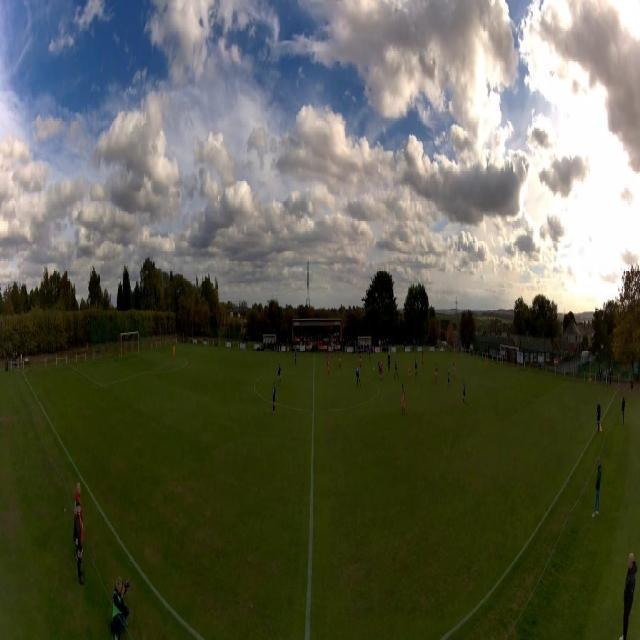ball: (374, 368, 375, 370)
player: (272, 382, 278, 416), (402, 384, 406, 416), (462, 378, 466, 406), (394, 358, 399, 380), (356, 365, 361, 387), (277, 361, 281, 383), (380, 360, 384, 378), (447, 369, 450, 391), (378, 362, 382, 378), (408, 361, 411, 382), (327, 355, 330, 376), (435, 364, 438, 385), (415, 357, 418, 377), (388, 353, 391, 373), (294, 346, 297, 365), (339, 351, 342, 369), (368, 346, 371, 361), (359, 353, 362, 367), (453, 360, 455, 380), (173, 343, 175, 361), (422, 352, 424, 369), (485, 355, 487, 371)
